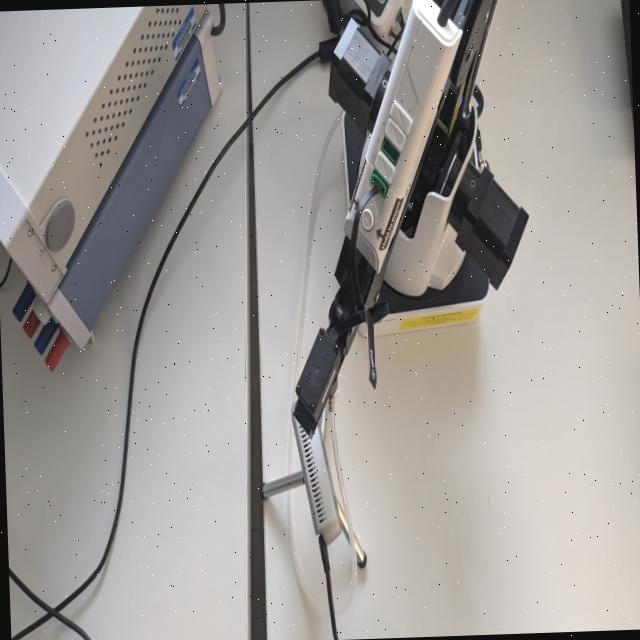Robot-end-effector-HF8z: (288, 322, 346, 440)
